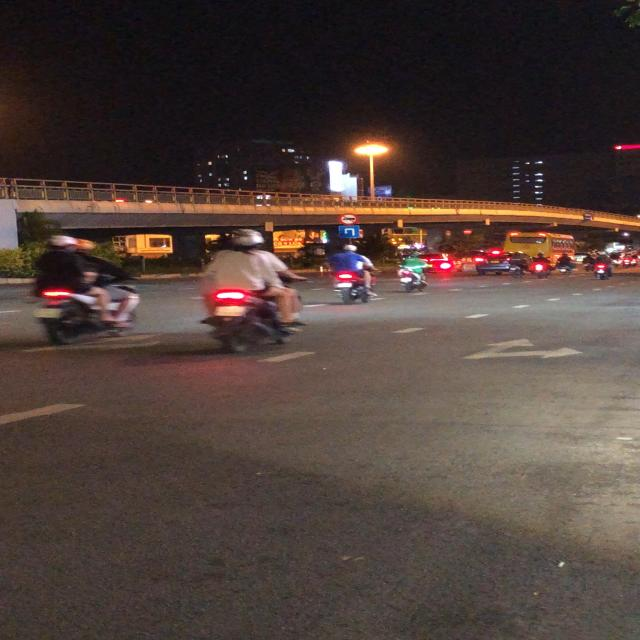Bien bao cam xe so-mi ro-mooc: (337, 213, 358, 226)
